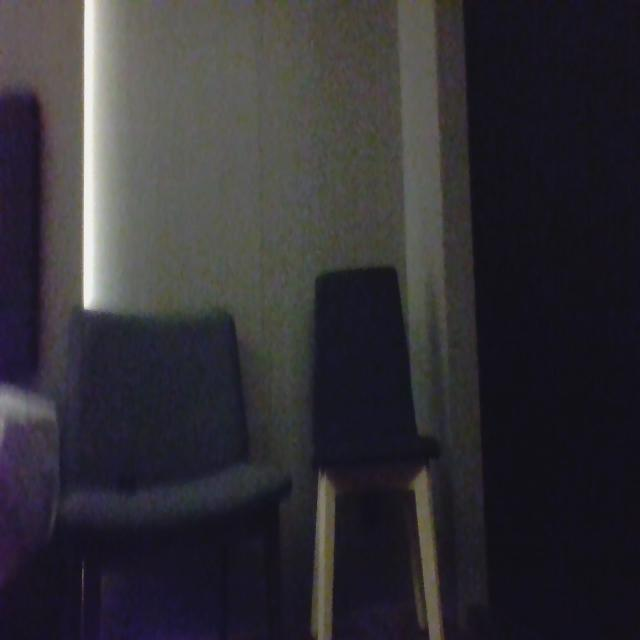empty: (55, 286, 261, 506), (310, 271, 416, 478)
